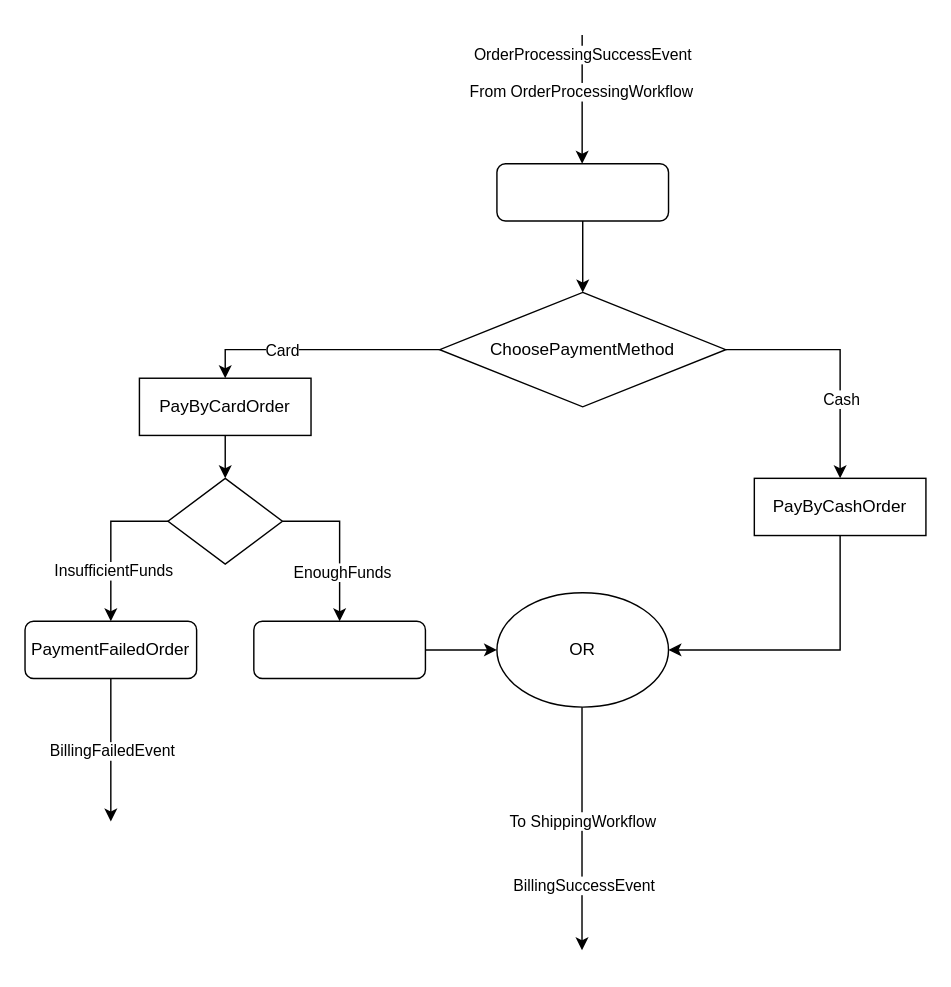
Image size: 951x987. Some labels were removed from this diagram. Each missing label, with the centre of its shape:
PayedOrder: the point at 338,649
PayOrder: the point at 224,520
UnpayedOrder: the point at 582,191
